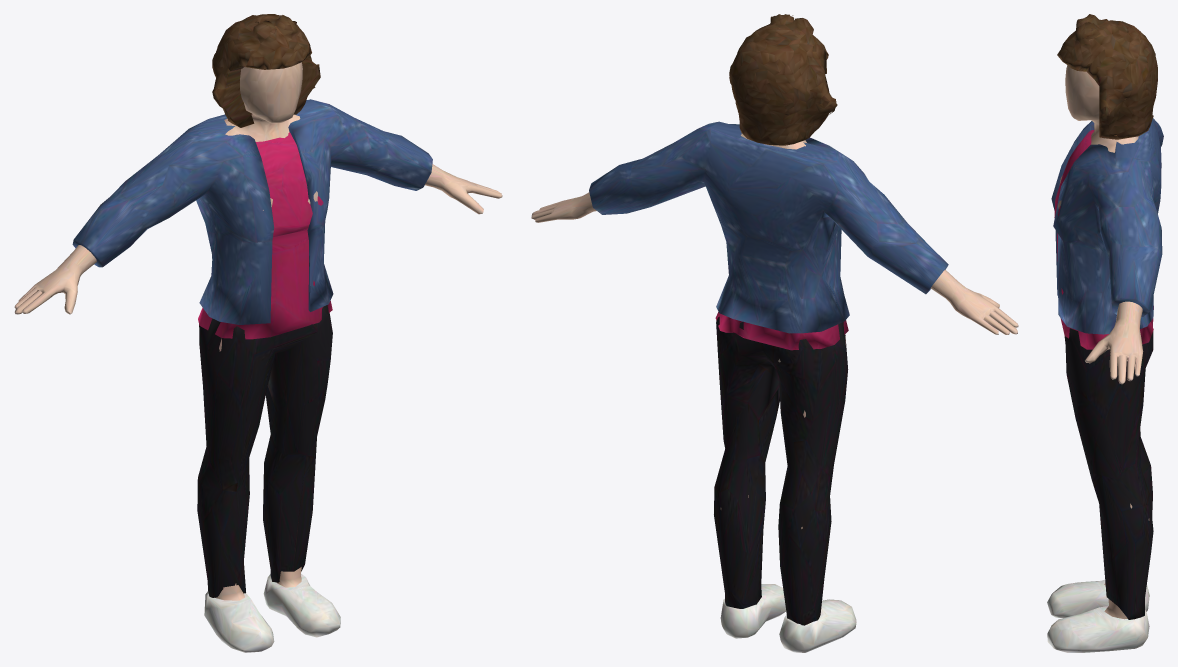
The model's file is npc_x_woman1.glb.
3 renders of one model, left to right at view 1: azimuth 30°, elevation 25°; view 2: azimuth 150°, elevation 25°; view 3: azimuth 270°, elevation 25°, orthographic.
Parts seen in each view (by area): view 1: Human; view 2: Human; view 3: Human.
Boxes of the visible parts, <box> form: Human: <box>14,14,502,652</box>; Human: <box>531,14,1018,652</box>; Human: <box>1047,14,1163,652</box>.
Bounding box in the file's own units: 1.43 × 1.72 × 0.2984.
Materials: 1 (1 with a texture image).
